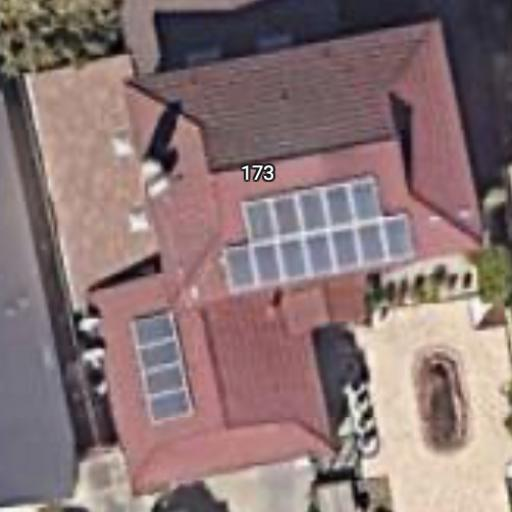Solar-Slope-Roof: (121, 20, 486, 312)
